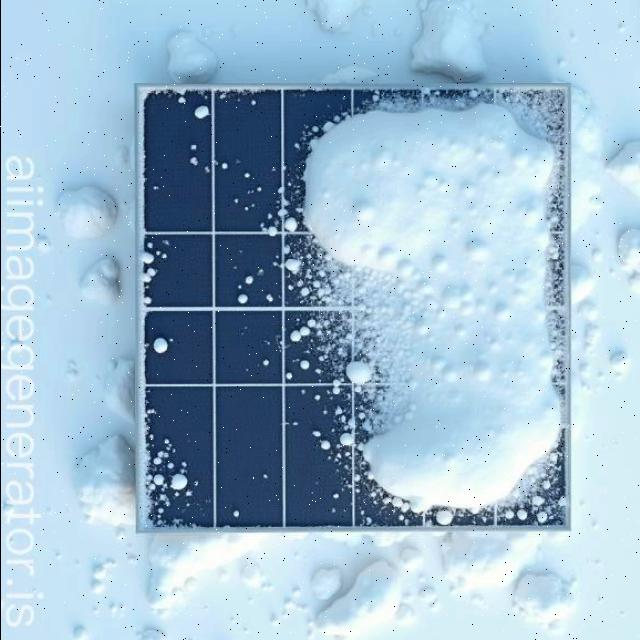Anomaly Solar Panel: (142, 84, 567, 529)
Snow: (238, 84, 573, 531), (137, 402, 213, 530), (140, 248, 154, 308), (189, 102, 212, 122), (152, 335, 170, 355)
